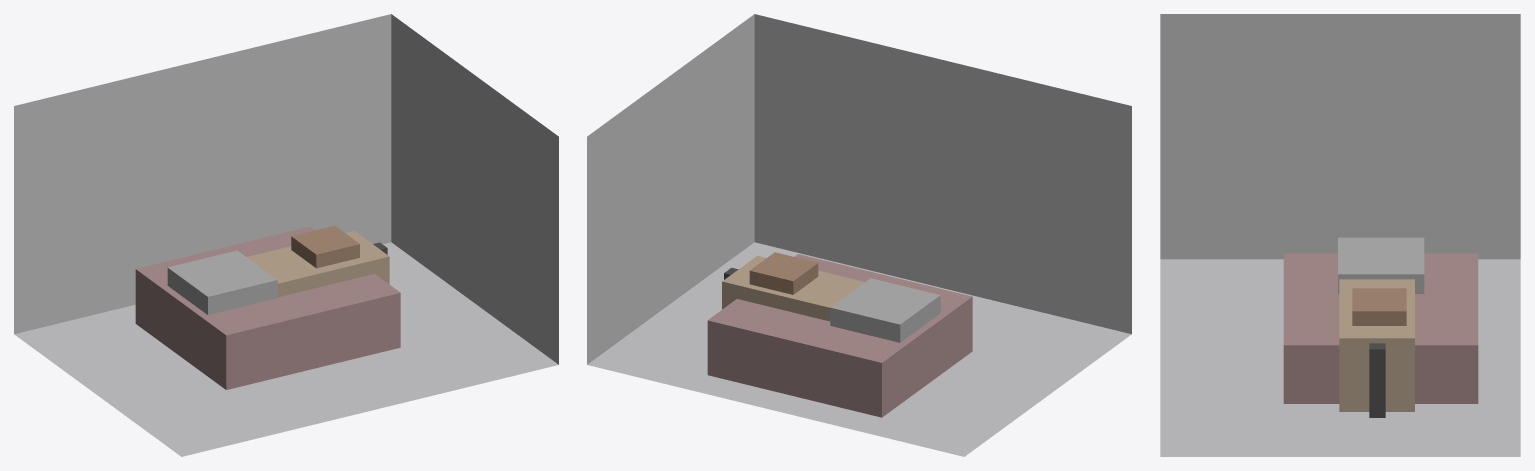
Rendered from optimised_layout.glb.
3 views of the same model, side by side, from view 1: azimuth 30°, elevation 25°; view 2: azimuth 150°, elevation 25°; view 3: azimuth 270°, elevation 25° (orthographic). The views are drawn at different scales.
Parts seen in each view (by area): view 1: room, bed, wardrobe, desk, chair; view 2: room, bed, wardrobe, desk, chair; view 3: room, bed, desk, wardrobe, chair, tv.
Boxes of the visible parts, left/top/right/bottom form: room: left=14, top=14, right=558, bottom=456; bed: left=135, top=226, right=400, bottom=389; wardrobe: left=167, top=250, right=277, bottom=314; desk: left=247, top=230, right=389, bottom=297; chair: left=291, top=225, right=359, bottom=268; room: left=587, top=14, right=1131, bottom=456; bed: left=707, top=254, right=972, bottom=417; wardrobe: left=830, top=278, right=940, bottom=342; desk: left=722, top=255, right=864, bottom=321; chair: left=749, top=252, right=818, bottom=294; room: left=1160, top=14, right=1520, bottom=456; bed: left=1283, top=253, right=1478, bottom=403; desk: left=1339, top=279, right=1414, bottom=411; wardrobe: left=1338, top=237, right=1424, bottom=293; chair: left=1352, top=288, right=1406, bottom=325; tv: left=1369, top=343, right=1385, bottom=417.
Bounding box in the file's own units: 4.32 × 2.5 × 3.33.
